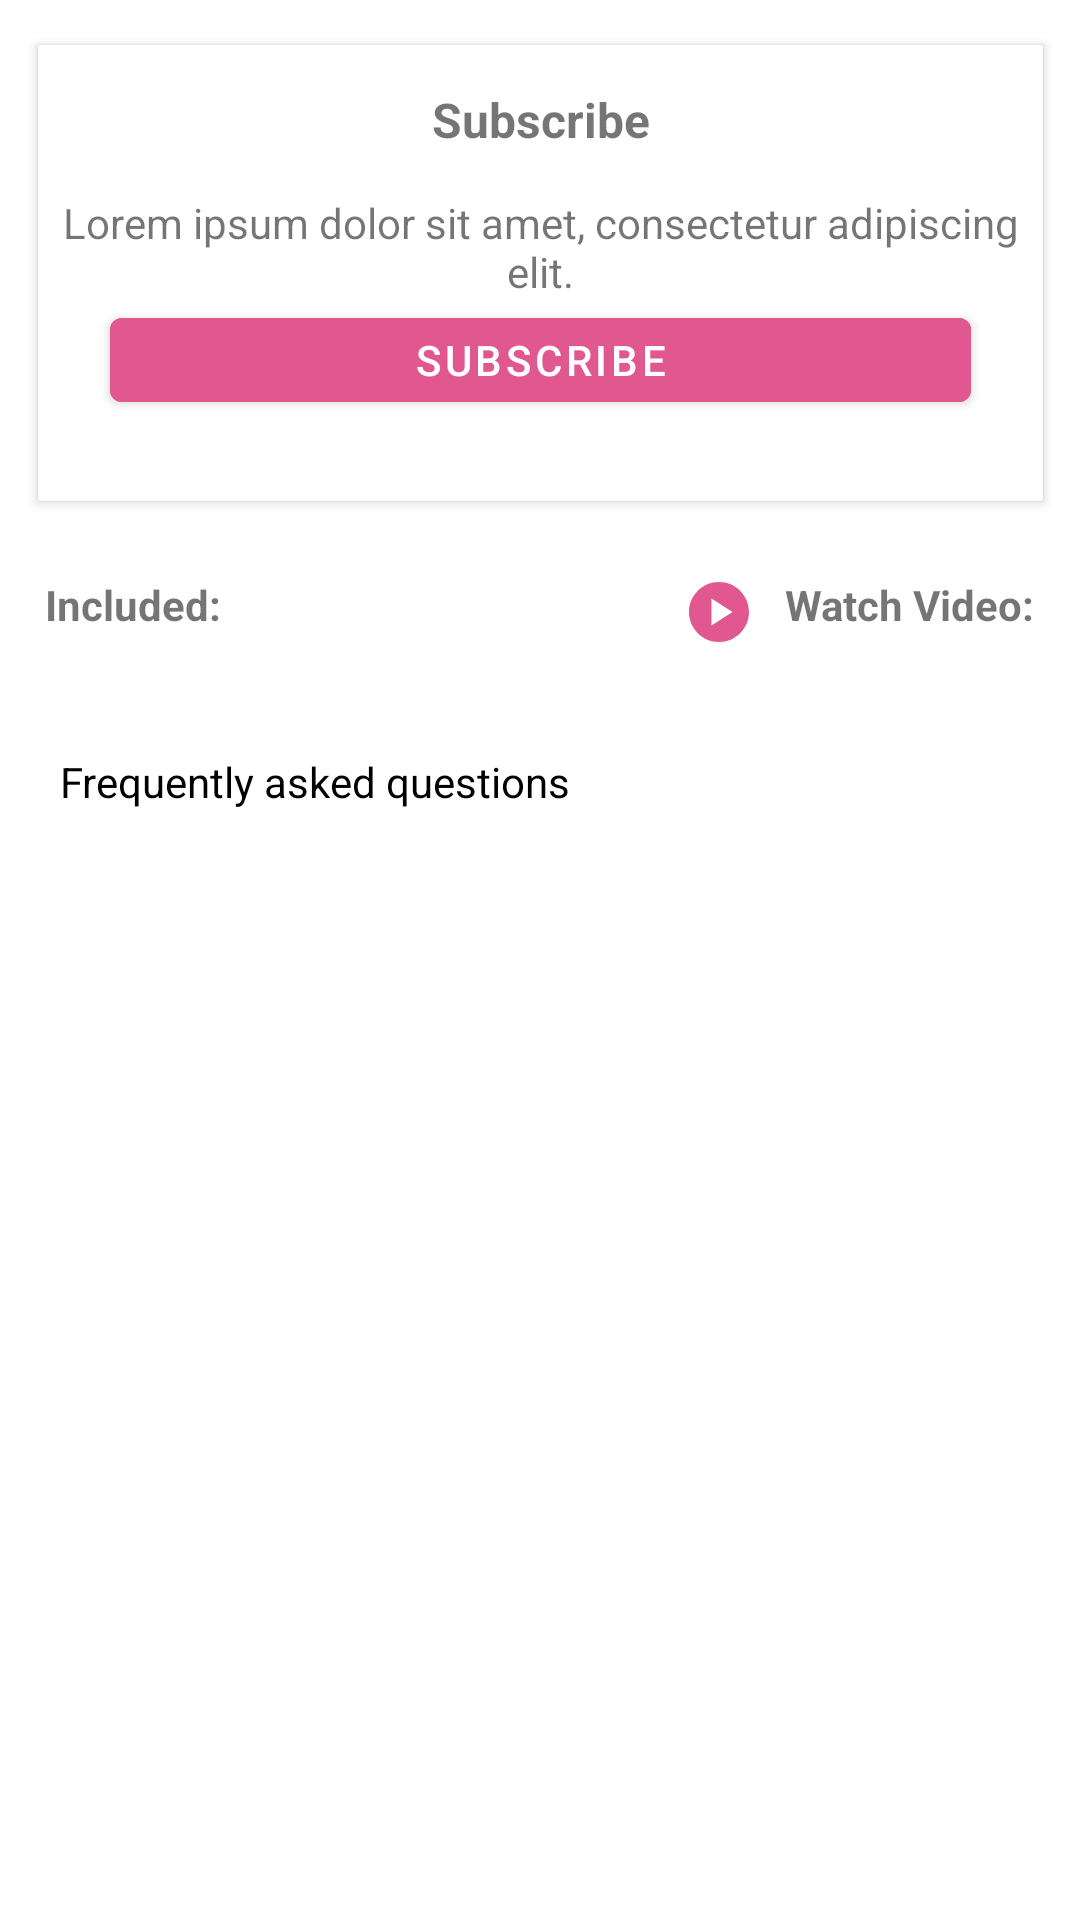

Named icons in this screenshot (1080×1920) and their bounding boxes, (x1=x1, y1=y1, x2=x2, y2=y2):
play circle: (x1=689, y1=582, x2=749, y2=642)
